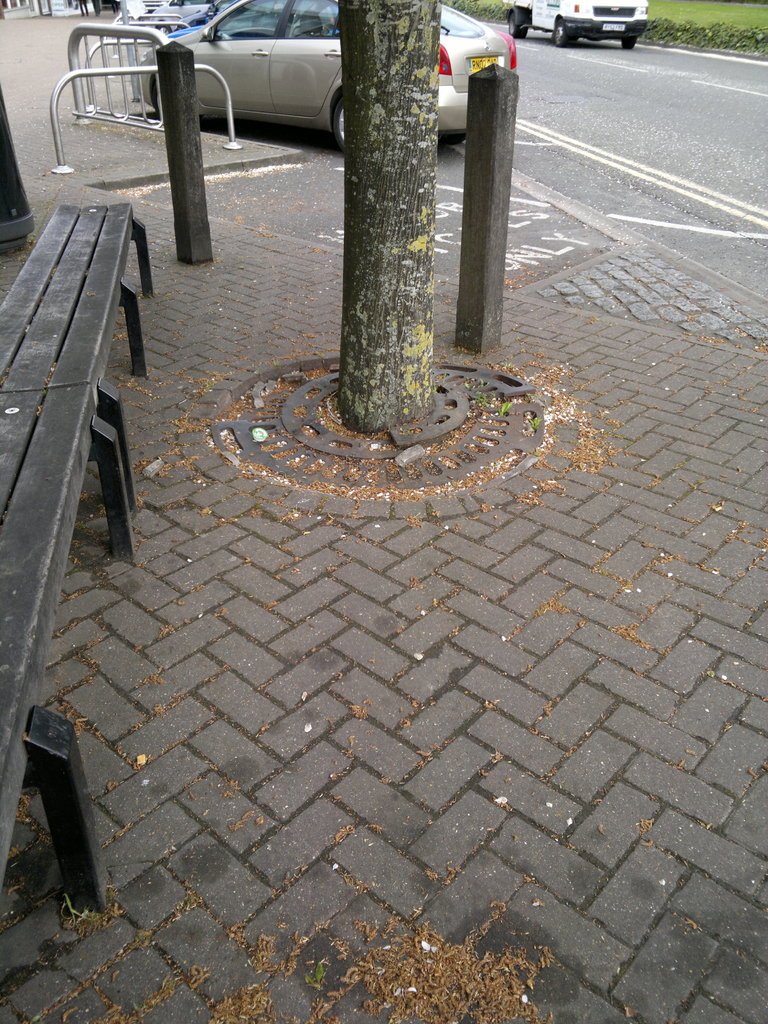Car: (124, 0, 519, 149), (152, 0, 330, 49), (512, 0, 650, 44), (117, 0, 216, 39)
